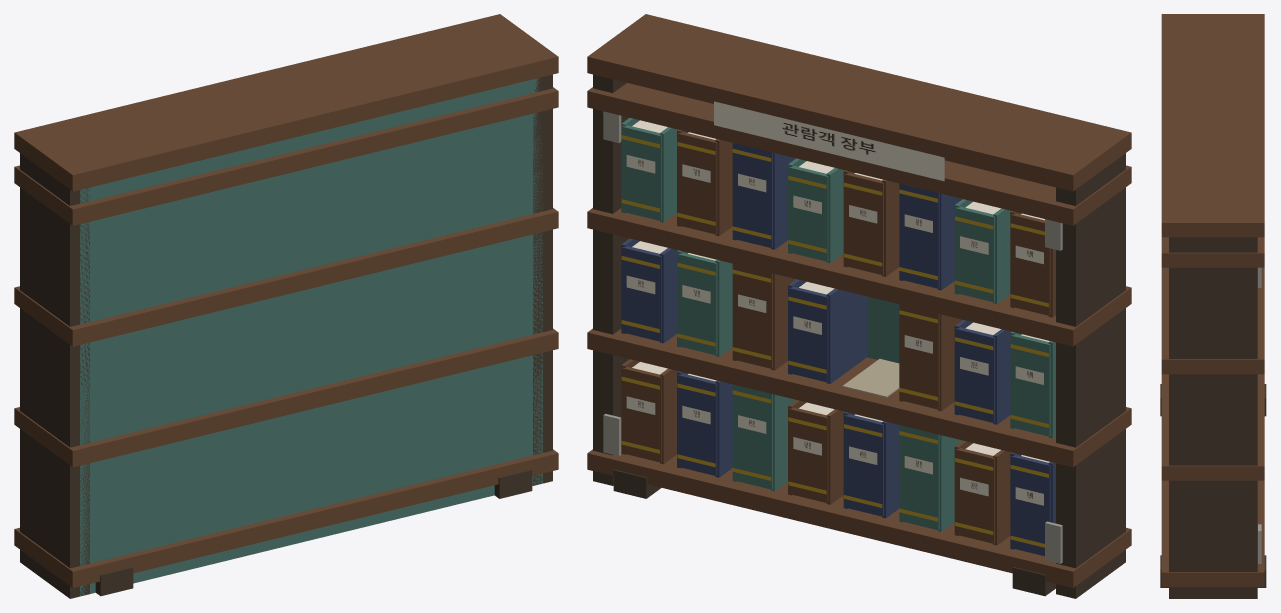
Rendered from S04_Visitor_Ledger_Shelf.fbx.
3 views of the same model, side by side, from view 1: azimuth 30°, elevation 25°; view 2: azimuth 150°, elevation 25°; view 3: azimuth 270°, elevation 25° (orthographic). The views are drawn at different scales.
Visible parts, largest first — view 1: Structure; view 2: Structure, Ledgers, Missing_Book_Slot; view 3: Structure.
Boxes of the visible parts, bbox=[...] form: Structure: bbox=[14, 14, 558, 598]; Structure: bbox=[587, 14, 1131, 598]; Ledgers: bbox=[621, 118, 1055, 556]; Missing_Book_Slot: bbox=[842, 359, 899, 397]; Structure: bbox=[1160, 14, 1266, 598].
Bounding box in the file's own units: 3.41 × 2.87 × 0.733.
9 materials, 1 textured.
